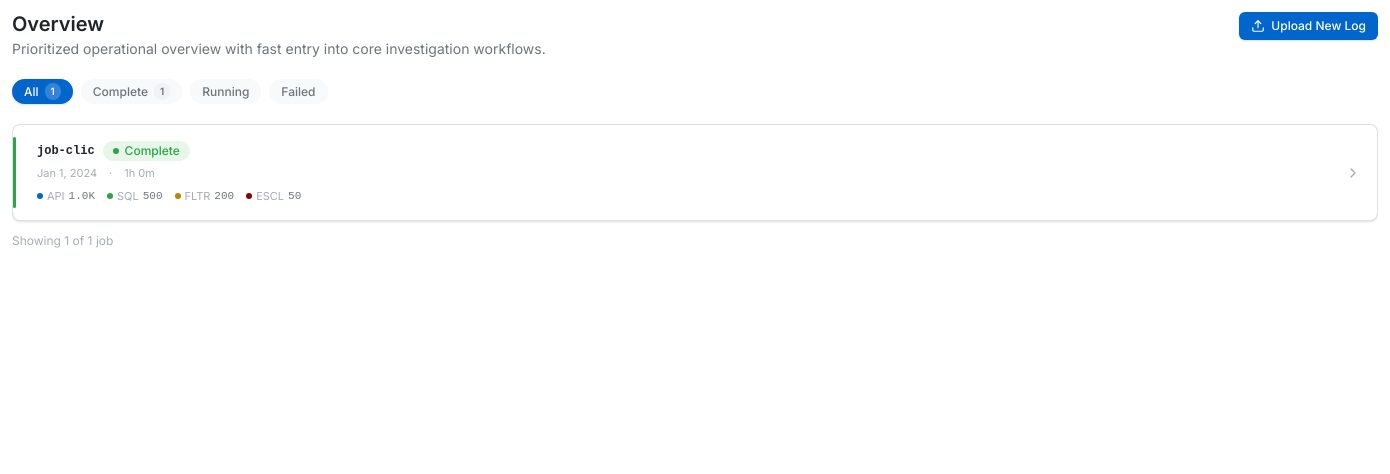
it: AnalysisListPage › expands job details when card is clicked
Click the button "job-cli" at (66, 151), box [13, 125, 1377, 220]
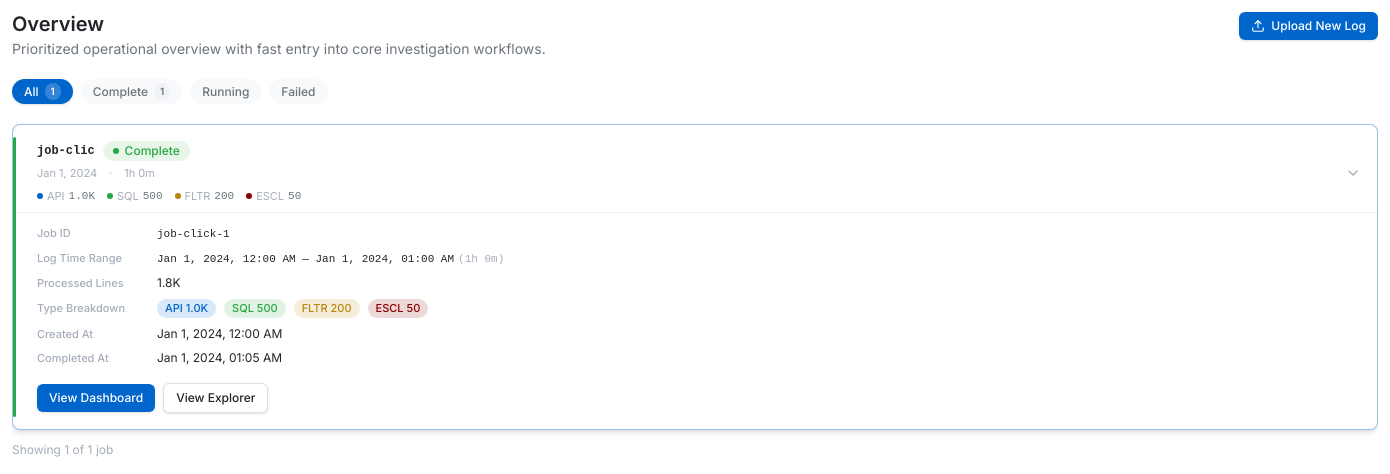
expect the button "job-cli" is expanded: met, box [13, 125, 1377, 212]
expect the text "job-click-1" is shown: met, box [157, 228, 230, 240]
